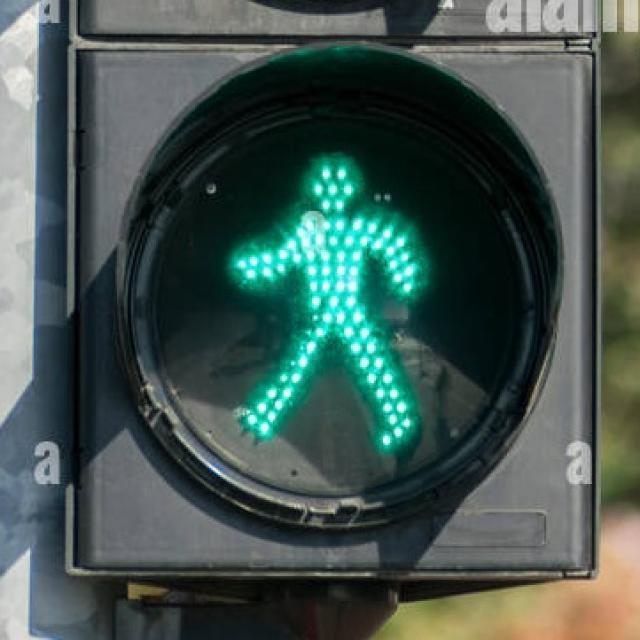geen-crossing: (206, 126, 467, 461)
